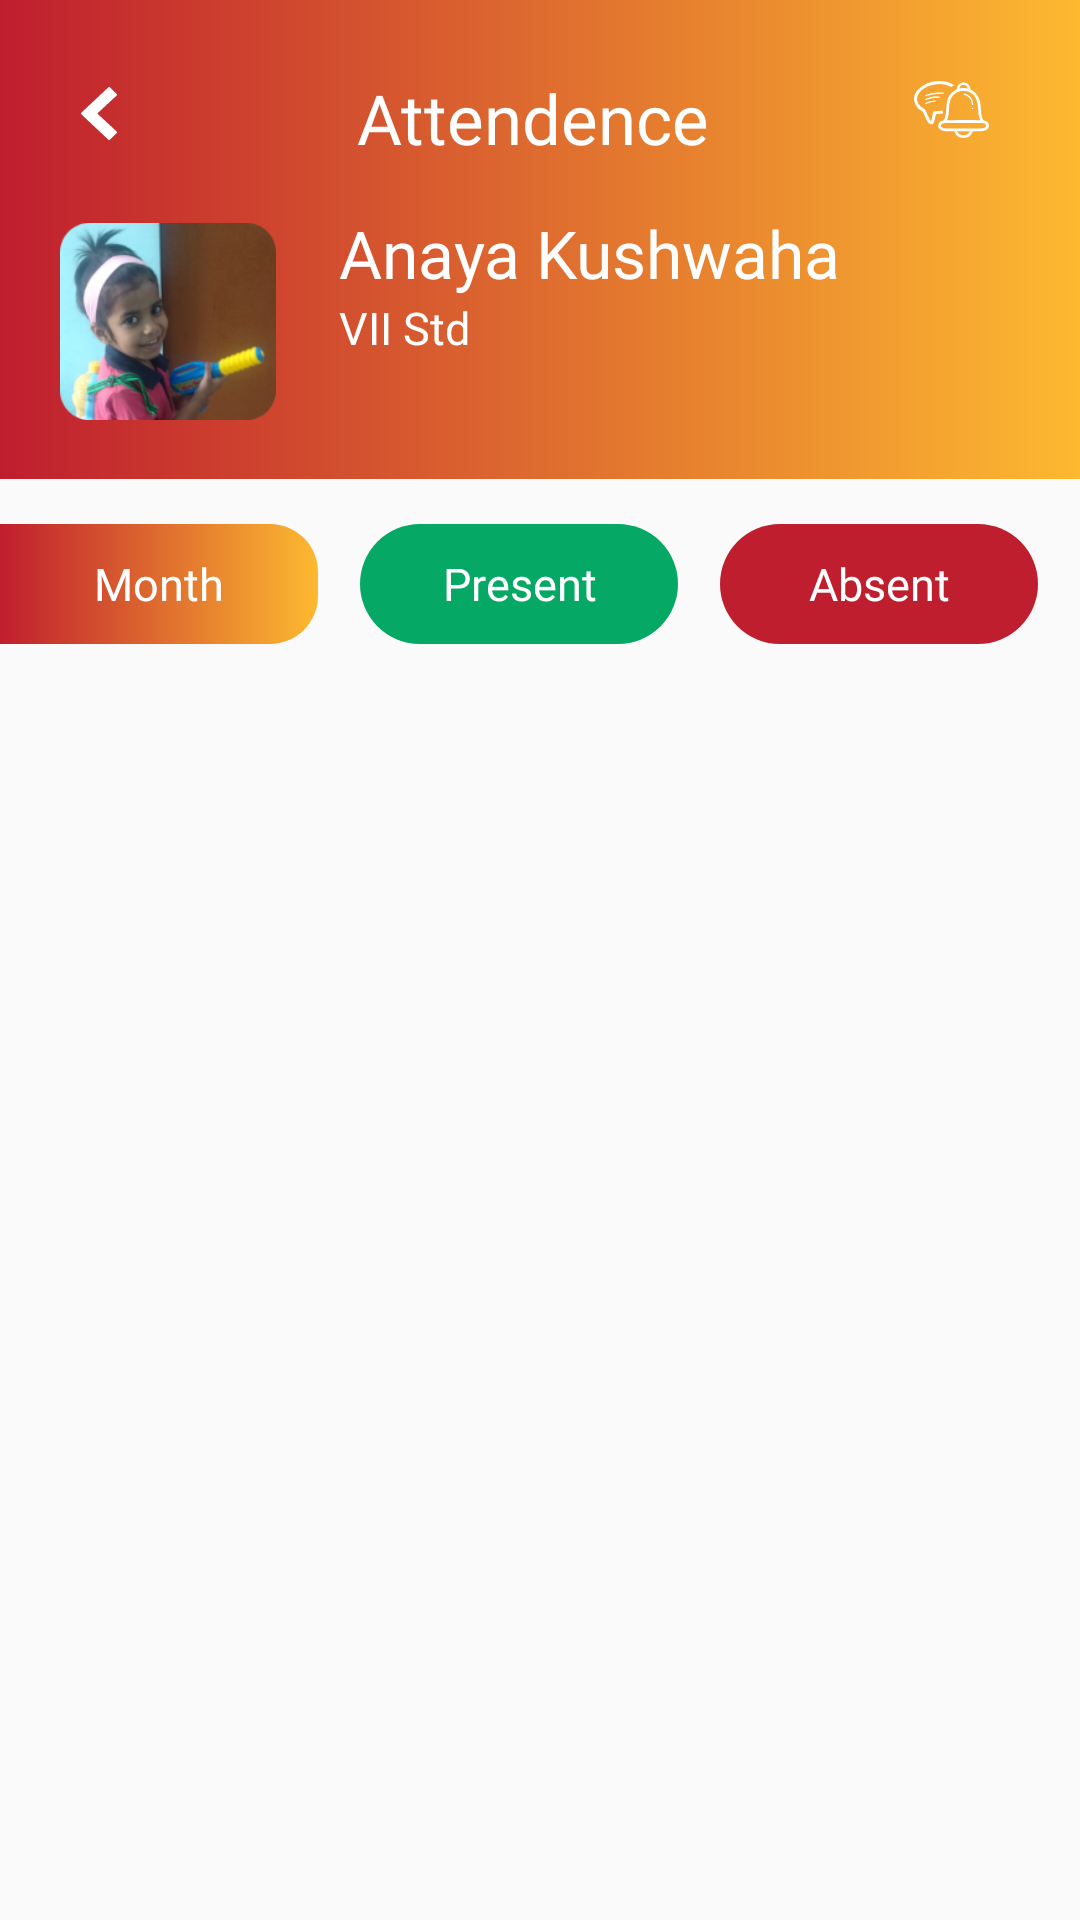

Icon bounding boxes for this 1080 x 1920 phone screenshot, format [left=x1, top=y1, right=x2, bottom=y2]:
left: [left=81, top=87, right=117, bottom=140]
message notification: [left=914, top=81, right=989, bottom=138]
